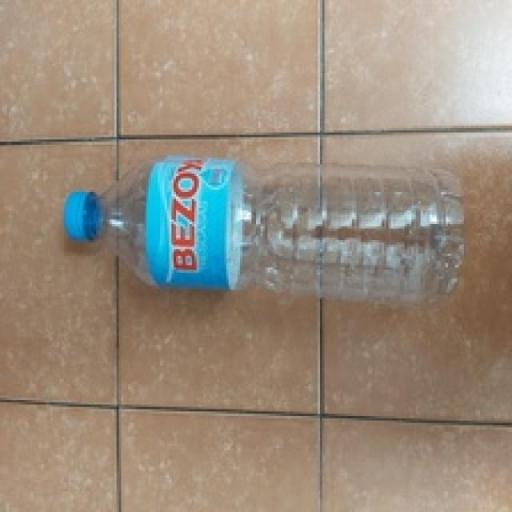plastic: (64, 158, 466, 304)
